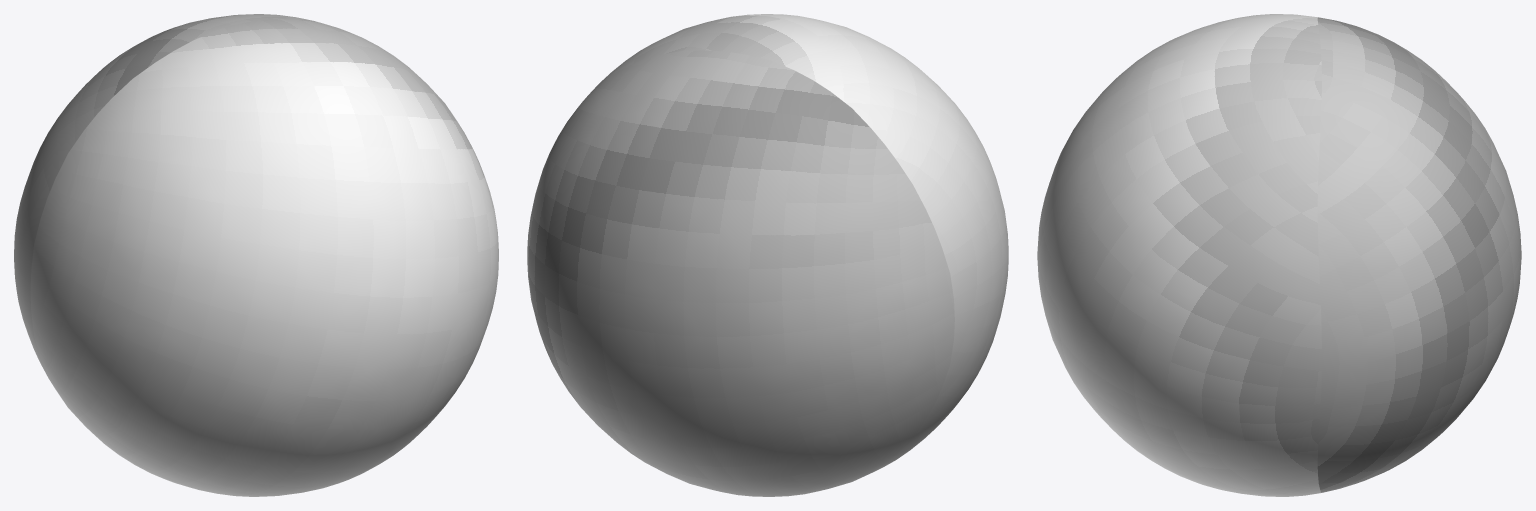
Rendered from golfBall.obj.
3 views of the same model, side by side, from view 1: azimuth 30°, elevation 25°; view 2: azimuth 150°, elevation 25°; view 3: azimuth 270°, elevation 25° (orthographic).
Parts seen in each view (by area): view 1: 10507_Golf_Ball_v1_L3; view 2: 10507_Golf_Ball_v1_L3; view 3: 10507_Golf_Ball_v1_L3.
Part boxes in pixels (x1,y1,x2,y2): 10507_Golf_Ball_v1_L3: (14, 14, 498, 496); 10507_Golf_Ball_v1_L3: (527, 14, 1008, 496); 10507_Golf_Ball_v1_L3: (1037, 14, 1521, 496).
Size of the model in its own units: 6.82 by 6.84 by 6.85.
1 material, 1 textured.
